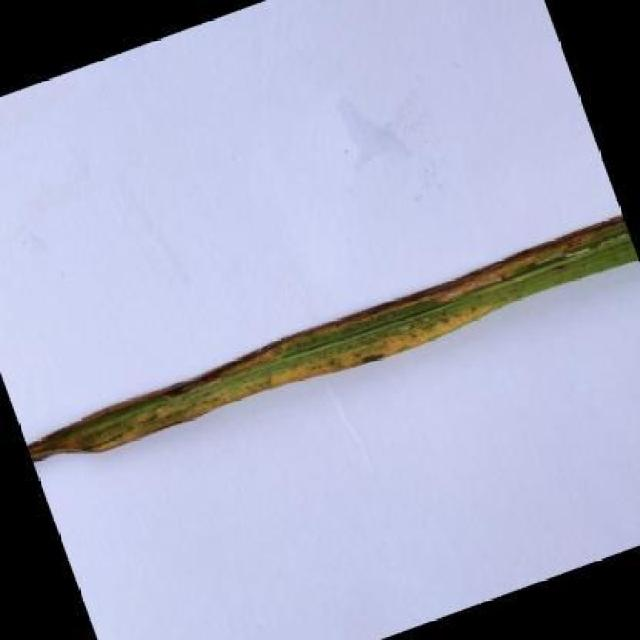Rice False Smut: (18, 209, 640, 486)
